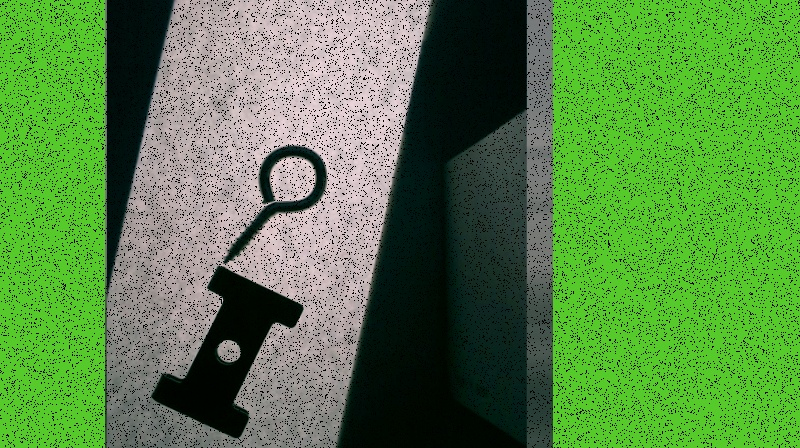O001: (222, 144, 328, 264)
O002: (152, 265, 304, 439)
